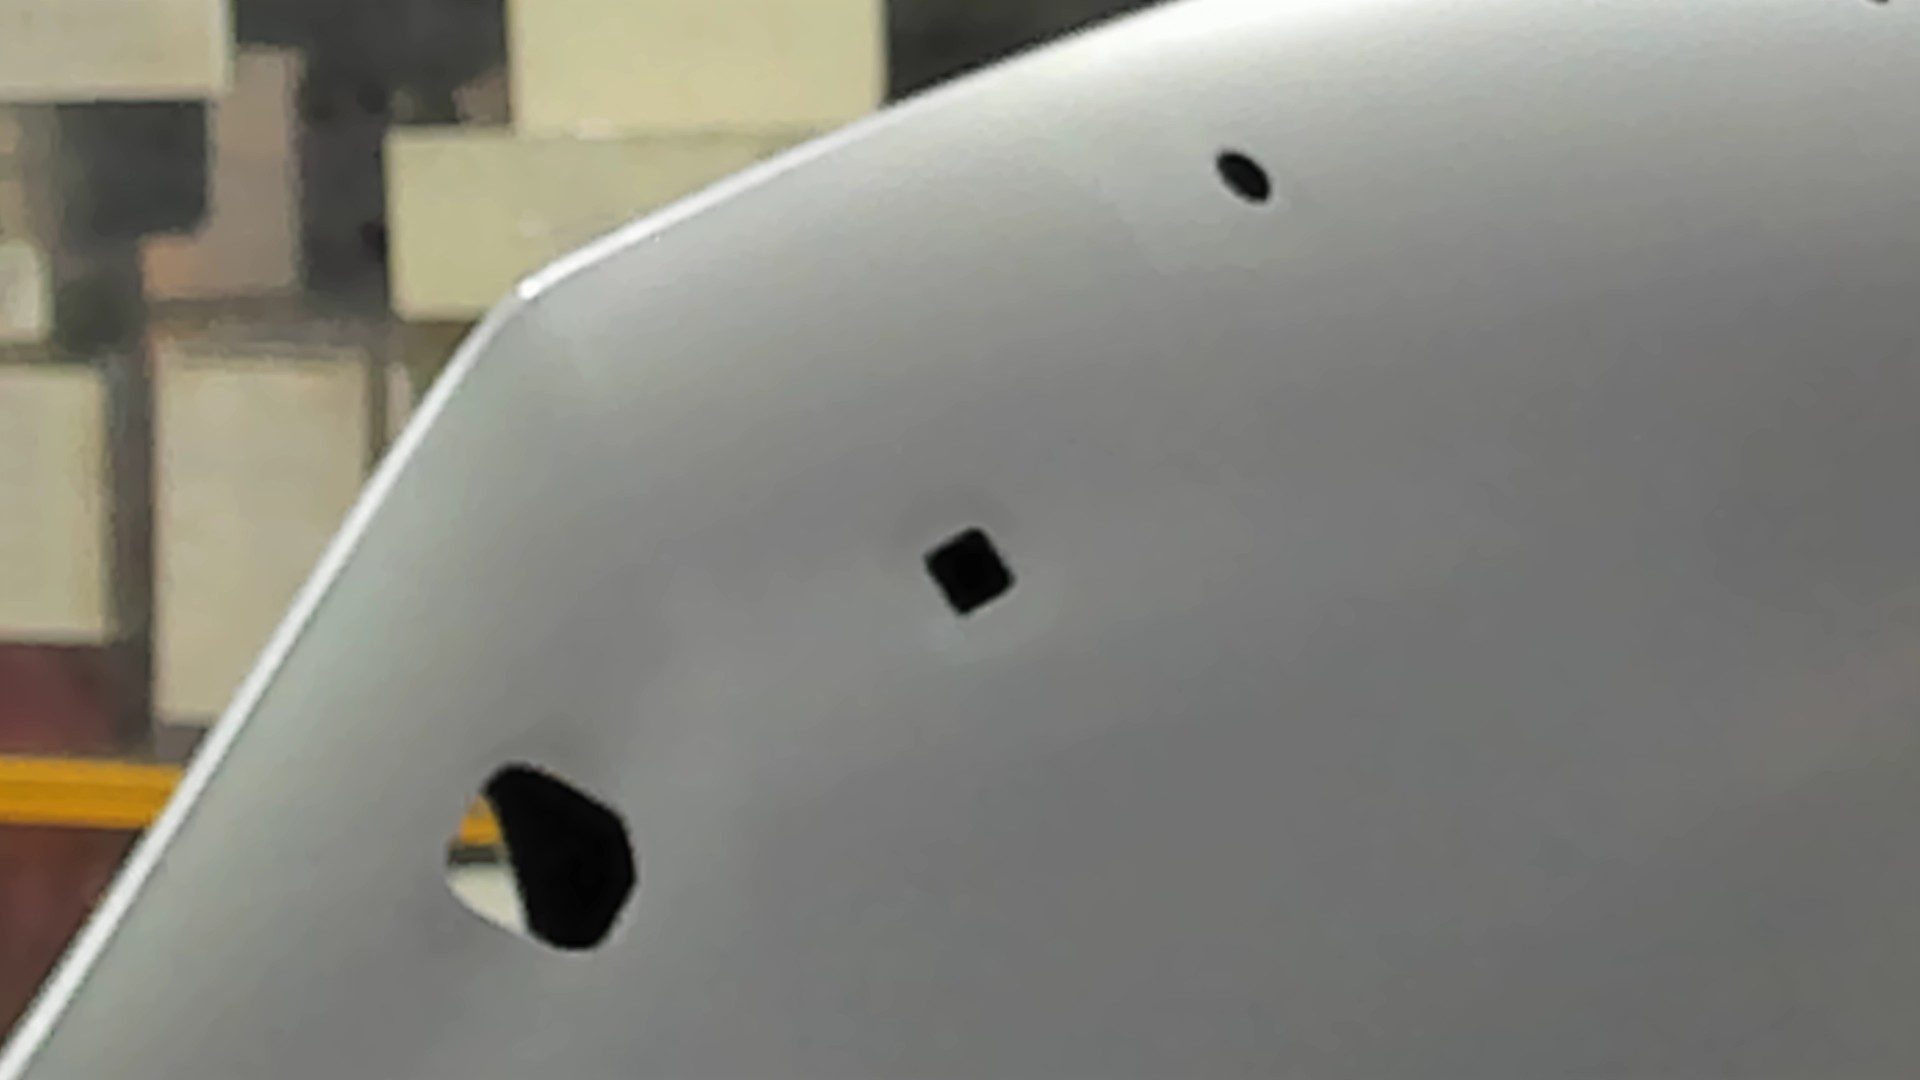chico: (1209, 141, 1276, 204)
grande: (440, 757, 644, 957)
mediano: (922, 521, 1022, 624)
